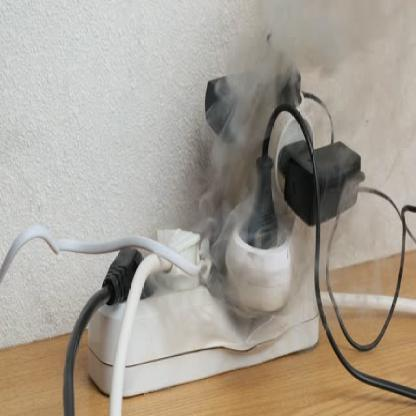smoke: (176, 0, 408, 349)
